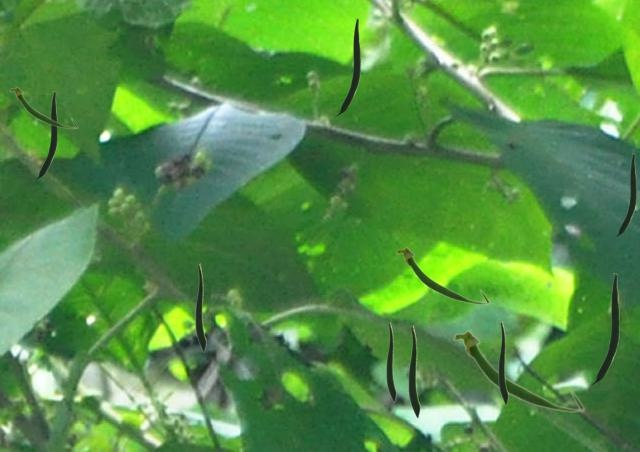french_bean: (452, 330, 584, 412), (395, 246, 489, 304), (589, 273, 618, 384), (9, 86, 77, 128), (335, 18, 359, 115), (34, 91, 56, 179), (614, 153, 635, 236), (408, 325, 419, 417), (195, 263, 205, 351), (498, 321, 507, 404), (386, 322, 395, 401)
